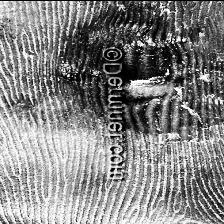Toxin: (120, 38, 180, 97)
